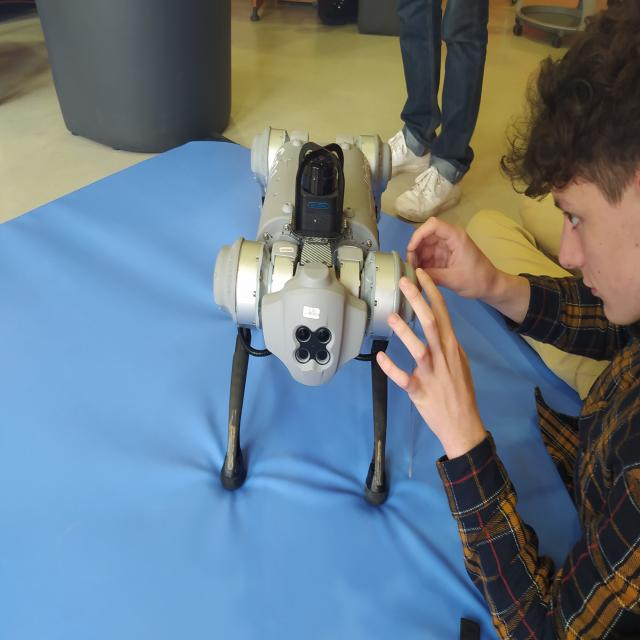unitree-go1-robot: (220, 96, 424, 501)
